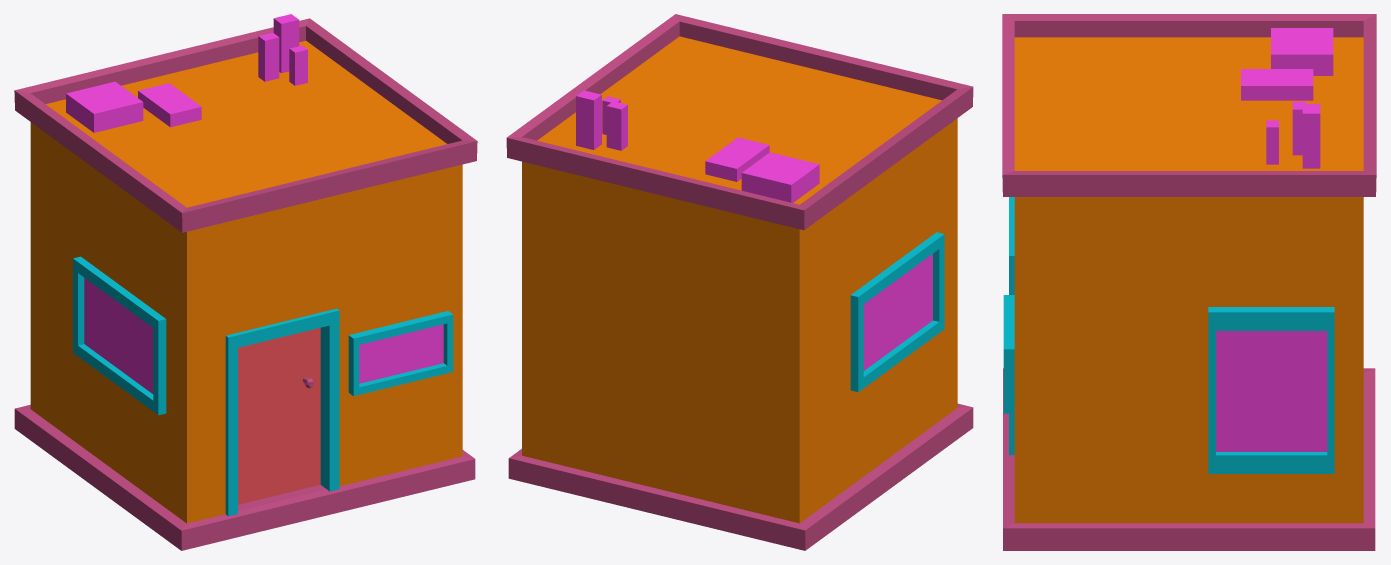
The model's file is BuildingRed.fbx.
3 views of the same model, side by side, from view 1: azimuth 30°, elevation 25°; view 2: azimuth 150°, elevation 25°; view 3: azimuth 270°, elevation 25° (orthographic). The views are drawn at different scales.
Parts seen in each view (by area): view 1: Building 3; view 2: Building 3; view 3: Building 3.
Boxes of the visible parts, bbox=[...] form: Building 3: bbox=[14, 14, 477, 550]; Building 3: bbox=[506, 14, 973, 550]; Building 3: bbox=[1002, 14, 1376, 550].
Size of the model in its own units: 379 by 454 by 371.
